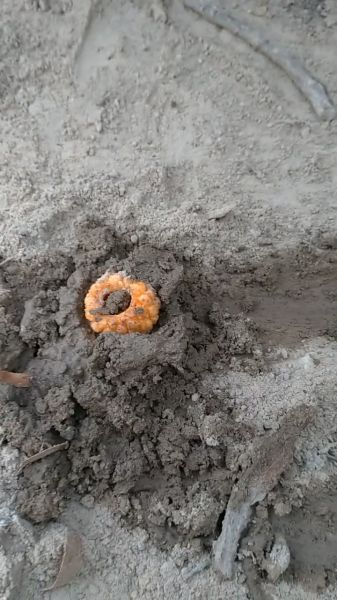eggs: (80, 266, 170, 342)
